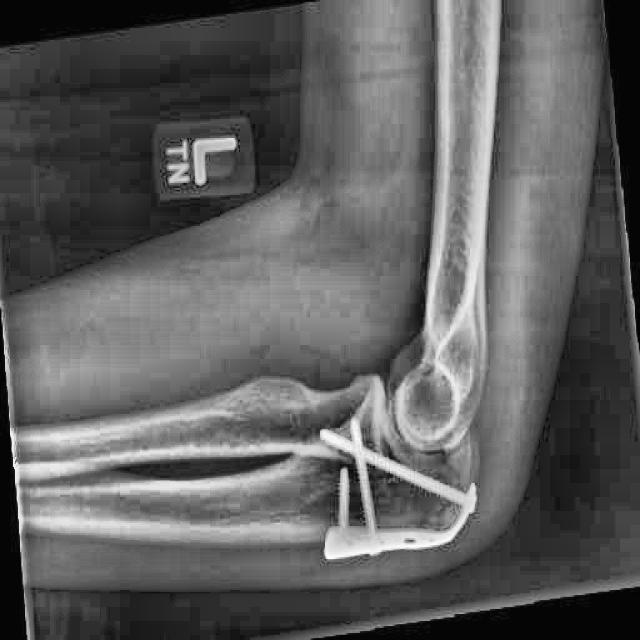elbow positive: (425, 422, 494, 522)
